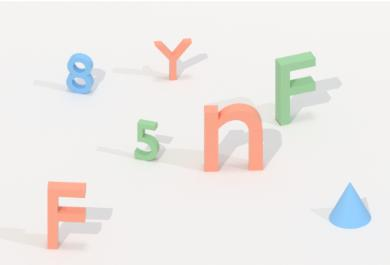0-TamGiac: (323, 177, 375, 231)
5: (130, 115, 166, 167)
8: (63, 50, 97, 98)
F: (267, 48, 322, 132), (42, 175, 89, 253)
Y: (149, 33, 196, 85)
n: (199, 99, 268, 174)
